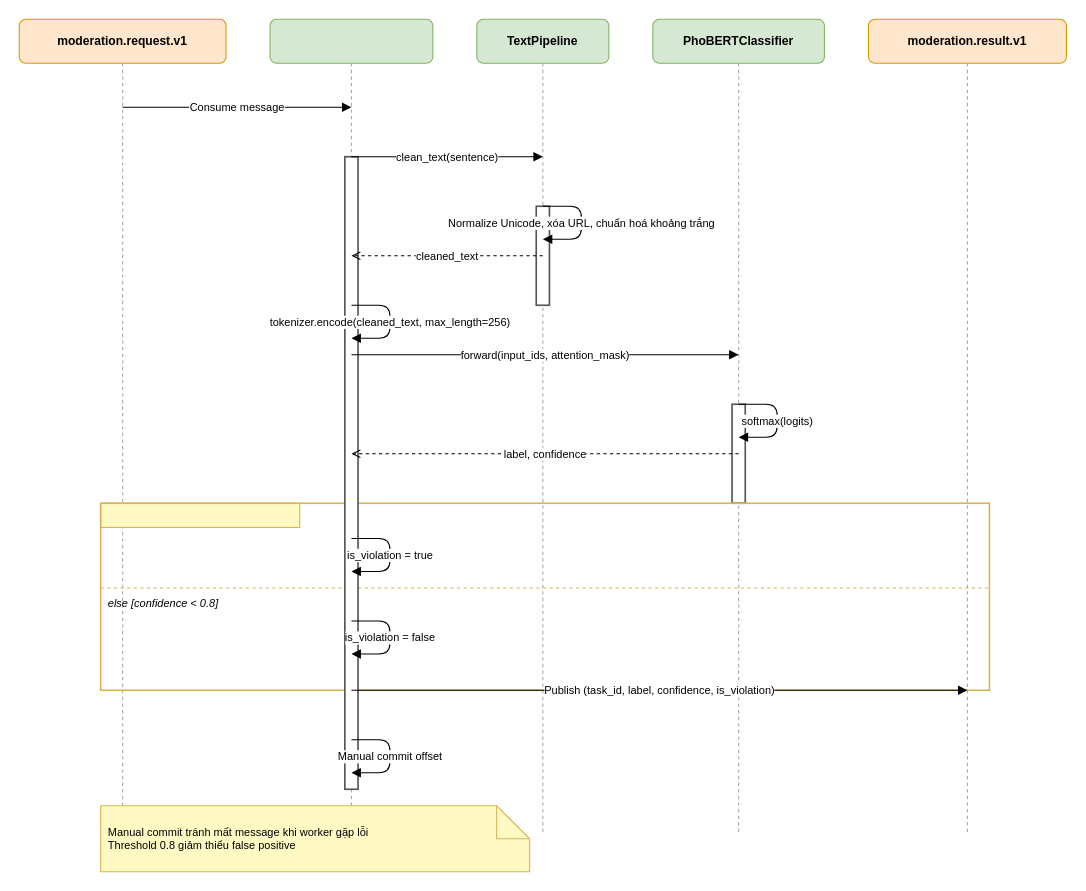
Image size: 1086x891. Some labels were removed from this diagram. Each missing label, with the box of its shape:
alt [confidence >= 0.8]: (100, 502, 300, 527)
ModerationWorker: (269, 18, 433, 63)
